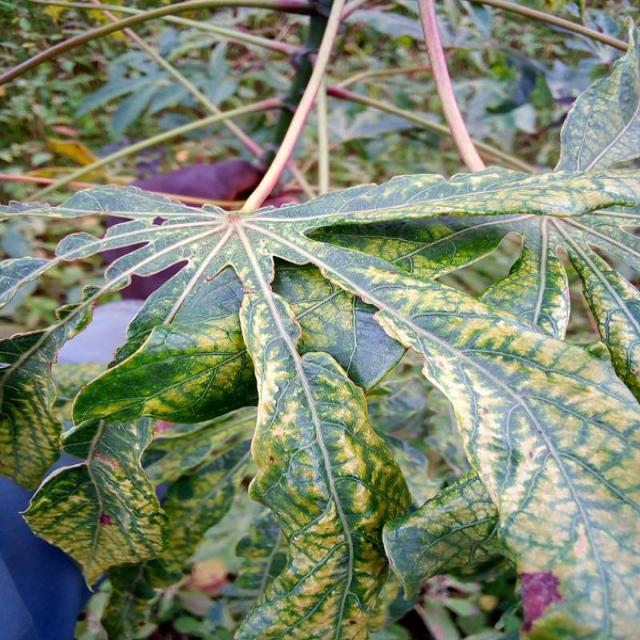cassava leaf: (1, 18, 638, 637)
